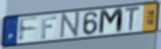6: (82, 10, 100, 37)
F: (18, 16, 40, 44), (41, 15, 58, 40)
M: (97, 7, 124, 36)
N: (58, 11, 82, 40)
T: (125, 5, 142, 33)
